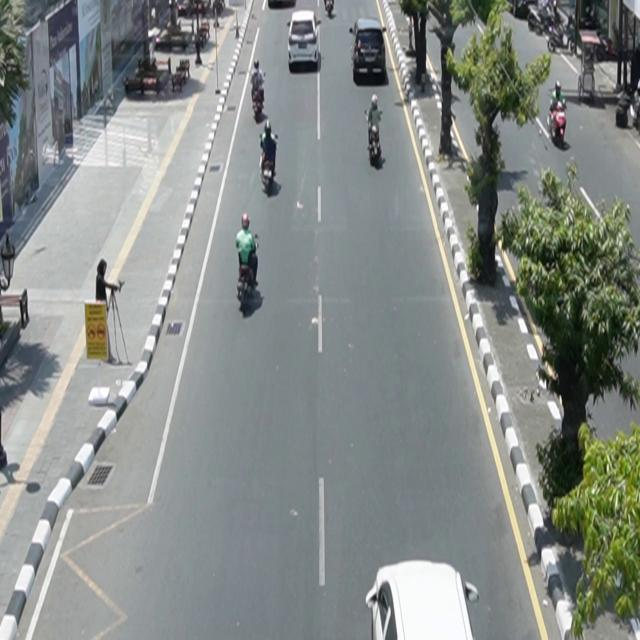car: (366, 560, 480, 640), (350, 19, 387, 84), (288, 10, 322, 71)
